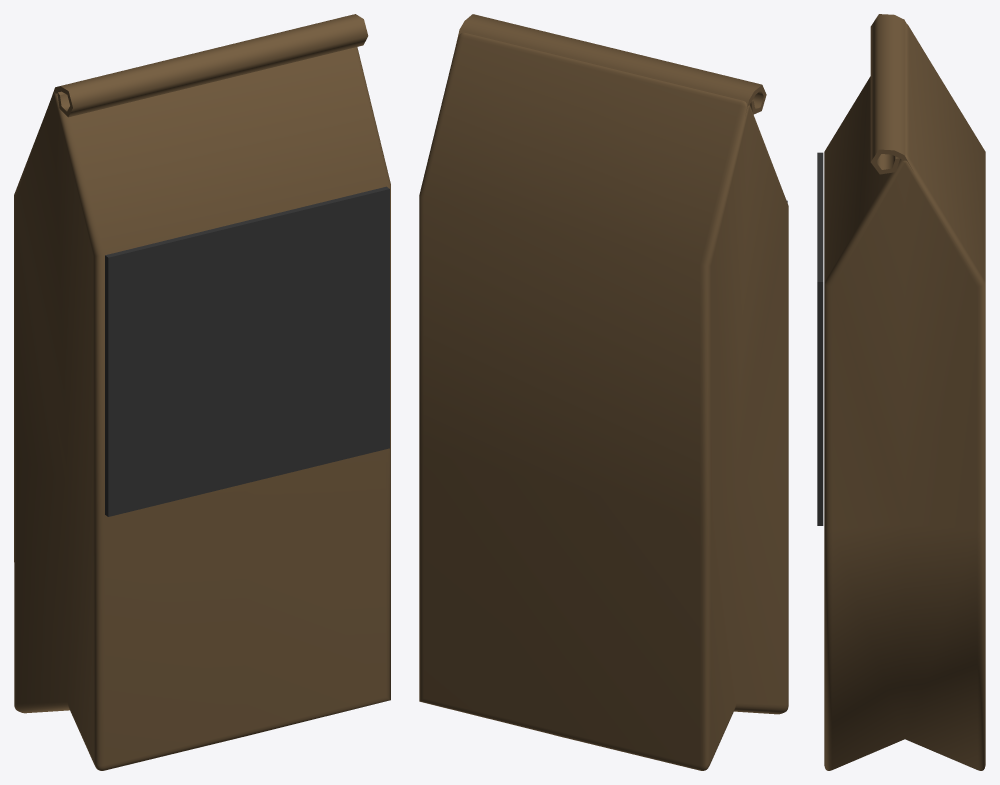
File: coffee.glb
3 renders of one model, left to right at view 1: azimuth 30°, elevation 25°; view 2: azimuth 150°, elevation 25°; view 3: azimuth 270°, elevation 25°, orthographic. The views are drawn at different scales.
Parts seen in each view (by area): view 1: Box001, Object001; view 2: Box001; view 3: Box001, Object001.
Part boxes in pixels (<box>): Box001: <box>14,14,390,770</box>; Object001: <box>105,186,389,516</box>; Box001: <box>419,14,788,770</box>; Box001: <box>824,14,985,770</box>; Object001: <box>817,152,823,525</box>.
Bounding box in the file's own units: 0.0761 × 0.1623 × 0.0397.
